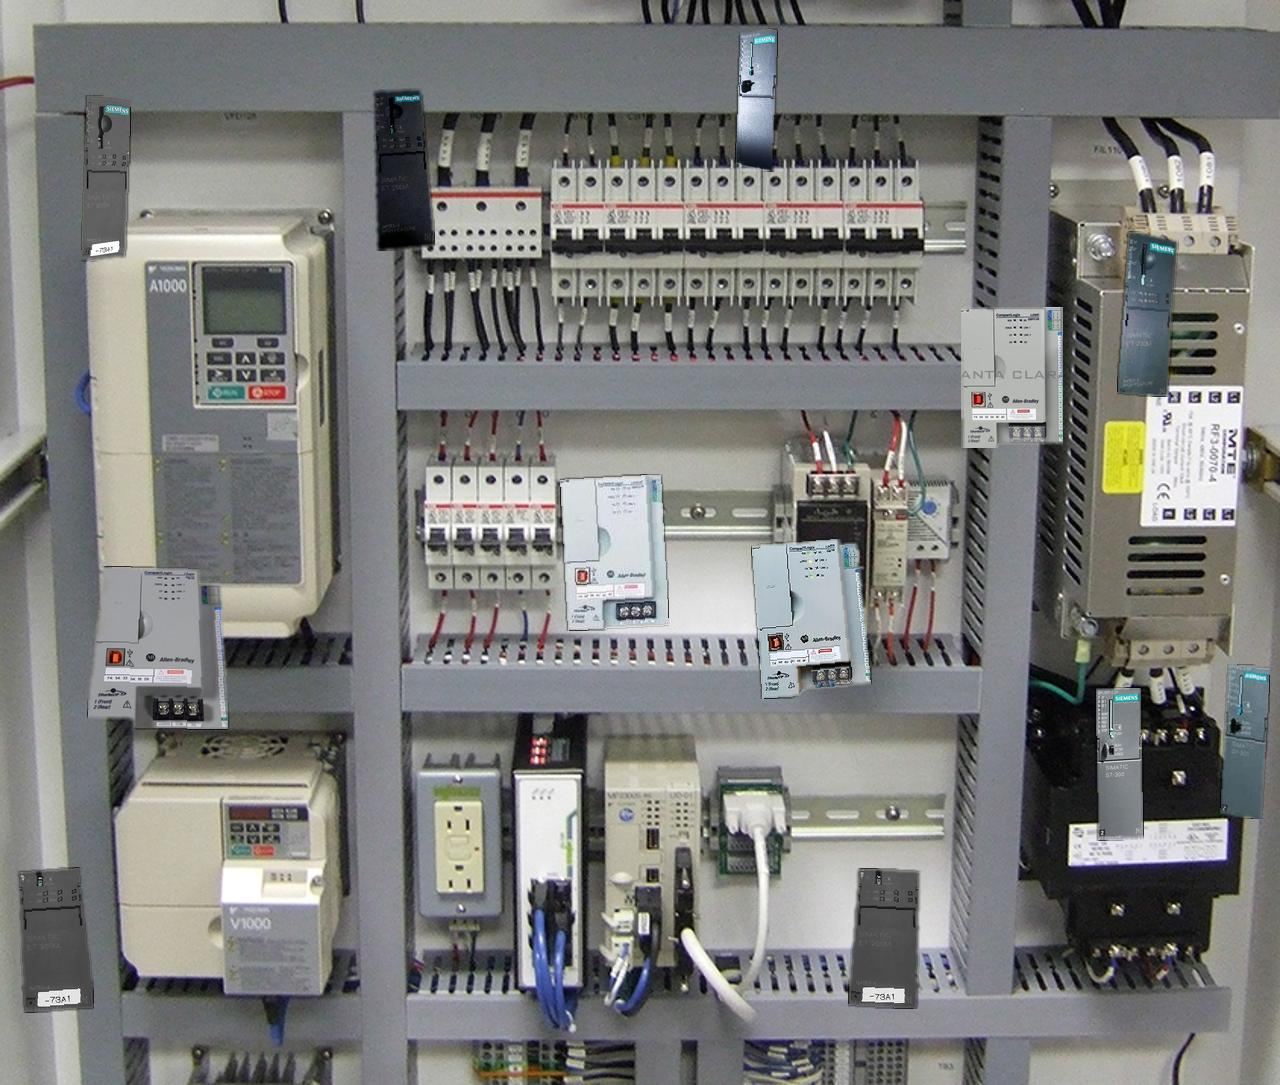AllenBradley: (88, 567, 227, 728), (752, 539, 870, 697), (560, 475, 669, 630), (961, 307, 1061, 447)
Siemens: (1220, 664, 1269, 818), (1096, 688, 1142, 839), (736, 30, 776, 171)
